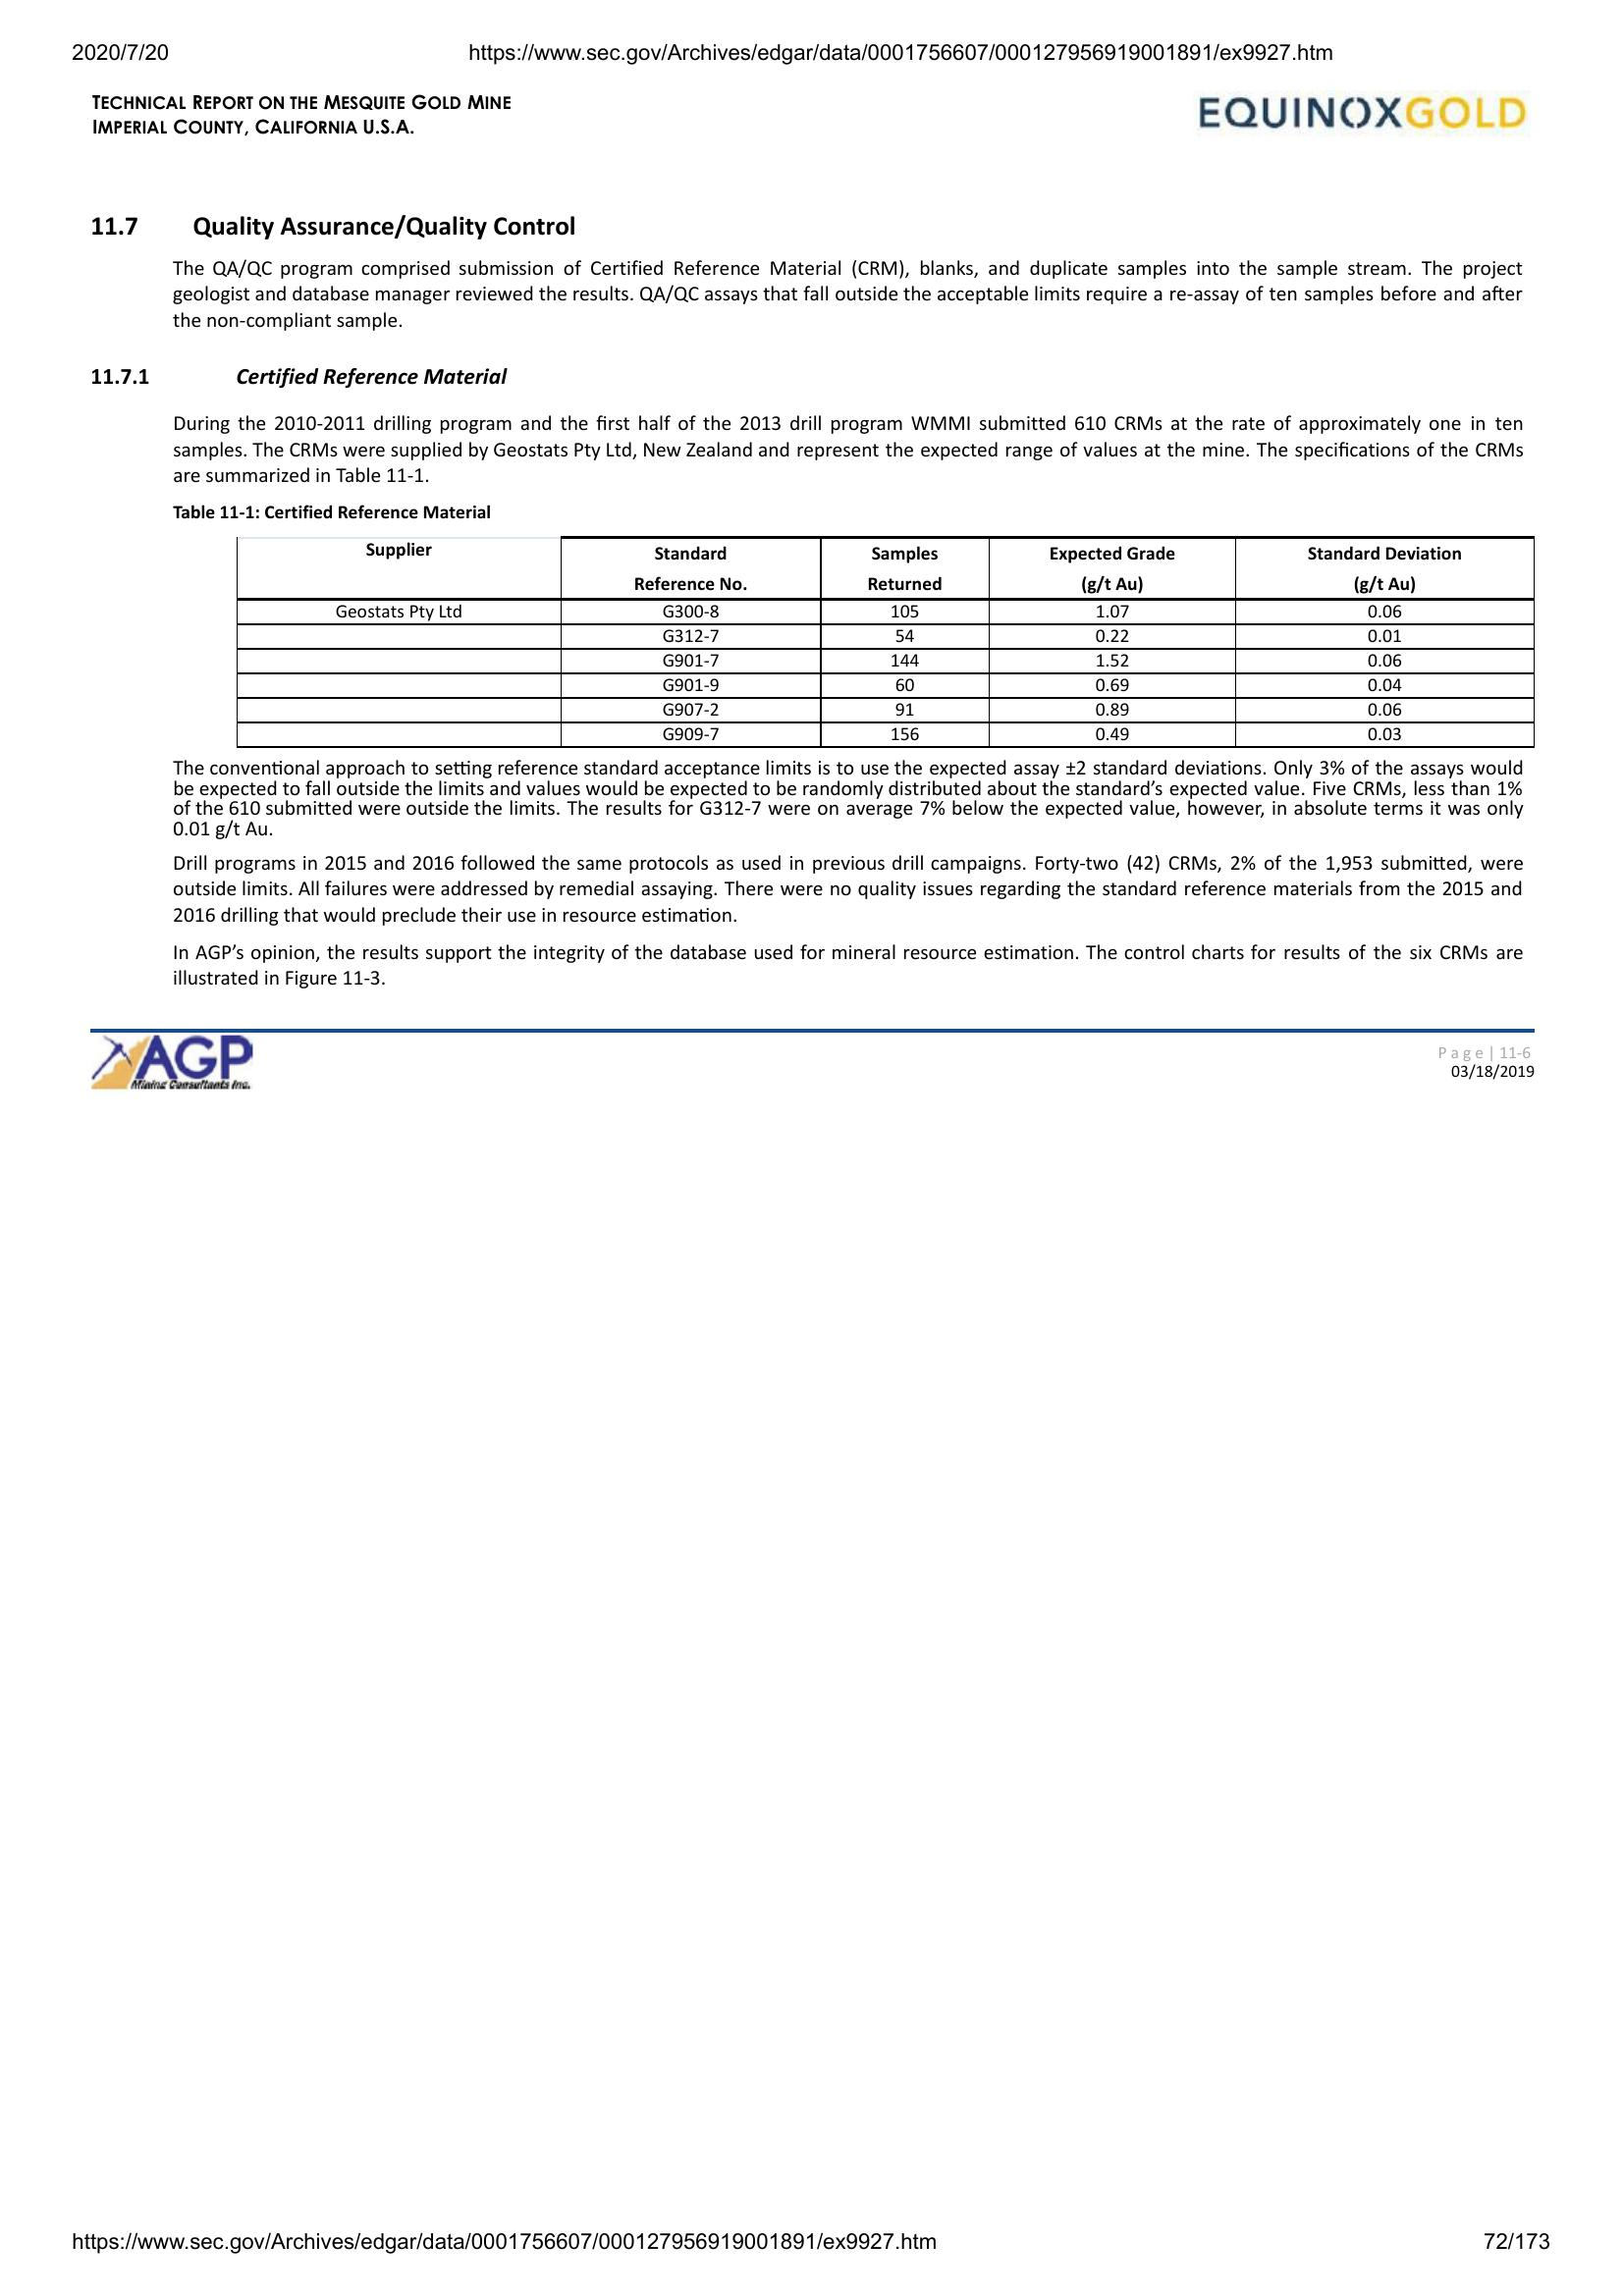table: (230, 530, 1540, 755)
